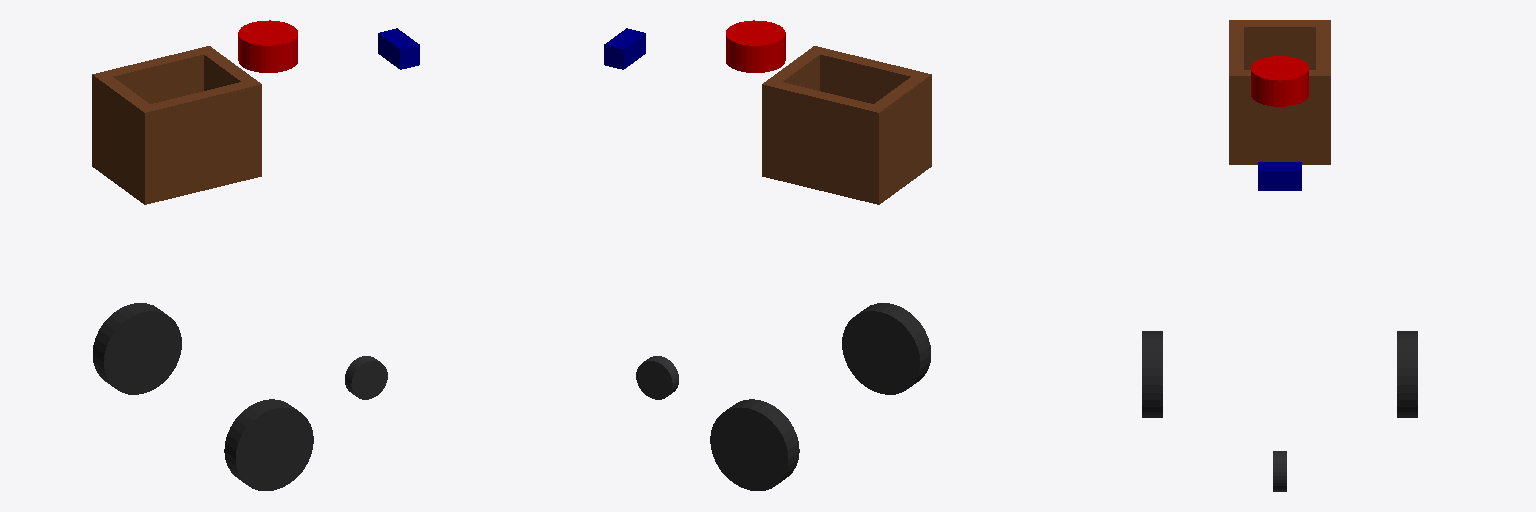
The robot description file, URDF, robot "agribot":
<?xml version="1.0"?>
<robot name="agribot">

  <!-- ==================== BASE LINK ==================== -->
  <link name="base_link">
    <visual>
      <origin xyz="0 0 0" rpy="1.5708 0 0"/>
      <geometry>
        <mesh filename="package://agribot_description/models/agribot/meshes/agribot_gazebo.obj" scale="0.14 0.14 0.14"/>
      </geometry>
    </visual>
    <collision>
      <origin xyz="0 0 0" rpy="0 0 0"/>
      <geometry>
        <box size="0.4 0.3 0.15"/>
      </geometry>
    </collision>
    <inertial>
      <mass value="5.0"/>
      <inertia ixx="0.042" ixy="0.0" ixz="0.0" iyy="0.058" iyz="0.0" izz="0.067"/>
    </inertial>
  </link>

  <!-- ==================== LEFT WHEEL ==================== -->
  <link name="left_wheel">
    <visual>
      <geometry>
        <cylinder radius="0.06" length="0.03"/>
      </geometry>
      <material name="dark_grey_translucent">
        <color rgba="0.2 0.2 0.2 0.75"/>
      </material>
    </visual>
    <collision>
      <geometry>
        <cylinder radius="0.06" length="0.03"/>
      </geometry>
    </collision>
    <inertial>
      <mass value="0.5"/>
      <inertia ixx="0.0005" ixy="0.0" ixz="0.0" iyy="0.0005" iyz="0.0" izz="0.001"/>
    </inertial>
  </link>

  <joint name="left_wheel_joint" type="continuous">
    <parent link="base_link"/>
    <child link="left_wheel"/>
    <origin xyz="-0.1 0.175 -0.14" rpy="-1.5708 0 0"/>
    <axis xyz="0 0 1"/>
  </joint>

  <!-- ==================== RIGHT WHEEL ==================== -->
  <link name="right_wheel">
    <visual>
      <geometry>
        <cylinder radius="0.06" length="0.03"/>
      </geometry>
      <material name="dark_grey_translucent"/>
    </visual>
    <collision>
      <geometry>
        <cylinder radius="0.06" length="0.03"/>
      </geometry>
    </collision>
    <inertial>
      <mass value="0.5"/>
      <inertia ixx="0.0005" ixy="0.0" ixz="0.0" iyy="0.0005" iyz="0.0" izz="0.001"/>
    </inertial>
  </link>

  <joint name="right_wheel_joint" type="continuous">
    <parent link="base_link"/>
    <child link="right_wheel"/>
    <origin xyz="-0.1 -0.175 -0.14" rpy="-1.5708 0 0"/>
    <axis xyz="0 0 1"/>
  </joint>

  <!-- ==================== CASTER WHEEL ==================== -->
  <link name="caster">
    <visual>
      <origin xyz="0 0 0" rpy="-1.5708 0 0"/>
      <geometry>
        <cylinder radius="0.028" length="0.018"/>
      </geometry>
      <material name="grey_translucent">
        <color rgba="0.22 0.22 0.22 0.75"/>
      </material>
    </visual>
    <collision>
      <geometry>
        <sphere radius="0.03"/>
      </geometry>
    </collision>
    <inertial>
      <mass value="0.2"/>
      <inertia ixx="0.00007" ixy="0.0" ixz="0.0" iyy="0.00007" iyz="0.0" izz="0.00007"/>
    </inertial>
  </link>

  <joint name="caster_joint" type="fixed">
    <parent link="base_link"/>
    <child link="caster"/>
    <origin xyz="0.15 0 -0.17" rpy="0 0 0"/>
  </joint>

  <!-- ==================== CAMERA LINK ==================== -->
  <link name="camera_link">
    <visual>
      <geometry>
        <box size="0.03 0.06 0.03"/>
      </geometry>
      <material name="blue_translucent">
        <color rgba="0.0 0.0 0.6 0.75"/>
      </material>
    </visual>
  </link>

  <joint name="camera_joint" type="fixed">
    <parent link="base_link"/>
    <child link="camera_link"/>
    <origin xyz="0.2 0 0.3" rpy="0 0 0"/>
  </joint>

  <!-- ==================== LIDAR LINK ==================== -->
  <link name="lidar_link">
    <visual>
      <geometry>
        <cylinder radius="0.04" length="0.04"/>
      </geometry>
      <material name="red">
        <color rgba="0.8 0.0 0.0 1.0"/>
      </material>
    </visual>
  </link>

  <joint name="lidar_joint" type="fixed">
    <parent link="base_link"/>
    <child link="lidar_link"/>
    <origin xyz="0 0 0.35" rpy="0 0 0"/>
  </joint>

  <!-- ==================== IMU LINK ==================== -->
  <link name="imu_link">
  </link>

  <joint name="imu_joint" type="fixed">
    <parent link="base_link"/>
    <child link="imu_link"/>
    <origin xyz="0 0 0.25" rpy="0 0 0"/>
  </joint>

  <!-- ==================== HARVEST ARM (Mesh Visual + Primitive Collision) ==================== -->
  <link name="harvest_arm_link">
    <visual>
      <origin xyz="-0.025 0 0.081" rpy="3.1416 -1.5708 1.5708"/>
      <geometry>
        <mesh filename="package://agribot_description/models/agribot/meshes/robotic_arm.glb" scale="5.236 6.007 2.536"/>
      </geometry>
    </visual>
    <collision>
      <origin xyz="0 0 0.09" rpy="0 0 0"/>
      <geometry>
        <box size="0.05 0.05 0.18"/>
      </geometry>
    </collision>
    <collision>
      <origin xyz="0.12 0 0.19" rpy="0 0 0"/>
      <geometry>
        <box size="0.24 0.04 0.04"/>
      </geometry>
    </collision>
    <collision>
      <origin xyz="0.25 0 0.22" rpy="0 0 0"/>
      <geometry>
        <box size="0.04 0.06 0.04"/>
      </geometry>
    </collision>
    <collision>
      <origin xyz="0.29 0.028 0.27" rpy="0 0 0"/>
      <geometry>
        <box size="0.02 0.014 0.10"/>
      </geometry>
    </collision>
    <collision>
      <origin xyz="0.29 -0.028 0.27" rpy="0 0 0"/>
      <geometry>
        <box size="0.02 0.014 0.10"/>
      </geometry>
    </collision>
    <inertial>
      <mass value="0.8"/>
      <inertia ixx="0.012" ixy="0.0" ixz="0.0" iyy="0.018" iyz="0.0" izz="0.016"/>
    </inertial>
  </link>

  <joint name="harvest_arm_joint" type="revolute">
    <parent link="base_link"/>
    <child link="harvest_arm_link"/>
    <origin xyz="0.04 0 0.29" rpy="0 0.15 0"/>
    <axis xyz="0 1 0"/>
    <limit lower="-0.60" upper="0.70" effort="10.0" velocity="1.5"/>
  </joint>

  <!-- ==================== HARVEST BASKET (Placeholder Geometry) ==================== -->
  <link name="harvest_basket_link">
    <visual>
      <origin xyz="0 0 0.015" rpy="0 0 0"/>
      <geometry>
        <box size="0.18 0.14 0.03"/>
      </geometry>
      <material name="basket_brown">
        <color rgba="0.46 0.28 0.16 1.0"/>
      </material>
    </visual>
    <visual>
      <origin xyz="0 0.06 0.075" rpy="0 0 0"/>
      <geometry>
        <box size="0.18 0.02 0.12"/>
      </geometry>
      <material name="basket_brown"/>
    </visual>
    <visual>
      <origin xyz="0 -0.06 0.075" rpy="0 0 0"/>
      <geometry>
        <box size="0.18 0.02 0.12"/>
      </geometry>
      <material name="basket_brown"/>
    </visual>
    <visual>
      <origin xyz="0.08 0 0.075" rpy="0 0 0"/>
      <geometry>
        <box size="0.02 0.14 0.12"/>
      </geometry>
      <material name="basket_brown"/>
    </visual>
    <visual>
      <origin xyz="-0.08 0 0.075" rpy="0 0 0"/>
      <geometry>
        <box size="0.02 0.14 0.12"/>
      </geometry>
      <material name="basket_brown"/>
    </visual>
    <collision>
      <origin xyz="0 0 0.015" rpy="0 0 0"/>
      <geometry>
        <box size="0.18 0.14 0.03"/>
      </geometry>
    </collision>
    <collision>
      <origin xyz="0 0.06 0.075" rpy="0 0 0"/>
      <geometry>
        <box size="0.18 0.02 0.12"/>
      </geometry>
    </collision>
    <collision>
      <origin xyz="0 -0.06 0.075" rpy="0 0 0"/>
      <geometry>
        <box size="0.18 0.02 0.12"/>
      </geometry>
    </collision>
    <collision>
      <origin xyz="0.08 0 0.075" rpy="0 0 0"/>
      <geometry>
        <box size="0.02 0.14 0.12"/>
      </geometry>
    </collision>
    <collision>
      <origin xyz="-0.08 0 0.075" rpy="0 0 0"/>
      <geometry>
        <box size="0.02 0.14 0.12"/>
      </geometry>
    </collision>
    <inertial>
      <mass value="0.5"/>
      <inertia ixx="0.008" ixy="0.0" ixz="0.0" iyy="0.010" iyz="0.0" izz="0.011"/>
    </inertial>
  </link>

  <joint name="harvest_basket_joint" type="fixed">
    <parent link="base_link"/>
    <child link="harvest_basket_link"/>
    <origin xyz="-0.14 0 0.20" rpy="0 0 0"/>
  </joint>

</robot>

--- Facts derived from the render (not from the file) ---
Views: 3 orthographic renders of the robot side by side, from view 1: azimuth 30°, elevation 25°; view 2: azimuth 150°, elevation 25°; view 3: azimuth 270°, elevation 25°.
Robot: agribot — 9 links, 8 joints (1 revolute, 2 continuous, 5 fixed); root link base_link; default pose: all joints at 0.
Links seen in each view (by area): view 1: harvest_basket_link, left_wheel, right_wheel, lidar_link, caster, camera_link; view 2: harvest_basket_link, left_wheel, right_wheel, lidar_link, caster, camera_link; view 3: harvest_basket_link, lidar_link, left_wheel, right_wheel, camera_link, caster.
Link boxes in pixels (left/top/right/bottom): harvest_basket_link: left=92, top=46, right=261, bottom=204; left_wheel: left=93, top=303, right=181, bottom=394; right_wheel: left=224, top=399, right=313, bottom=490; lidar_link: left=238, top=20, right=297, bottom=72; caster: left=345, top=356, right=387, bottom=399; camera_link: left=378, top=28, right=419, bottom=69; harvest_basket_link: left=762, top=46, right=931, bottom=204; left_wheel: left=710, top=399, right=799, bottom=490; right_wheel: left=842, top=303, right=930, bottom=394; lidar_link: left=726, top=20, right=785, bottom=72; caster: left=636, top=356, right=678, bottom=399; camera_link: left=604, top=28, right=645, bottom=69; harvest_basket_link: left=1229, top=20, right=1330, bottom=164; lidar_link: left=1251, top=56, right=1308, bottom=106; left_wheel: left=1397, top=331, right=1417, bottom=417; right_wheel: left=1142, top=331, right=1162, bottom=417; camera_link: left=1258, top=162, right=1301, bottom=190; caster: left=1273, top=451, right=1286, bottom=491.
Size in the robot's own frame: 0.445 by 0.38 by 0.57 metres.
0 mesh visuals loaded from 2 distinct referenced files (none loaded); not drawn: 1 (reference not matched to a file when rendering), 1 (file found but could not be loaded).
